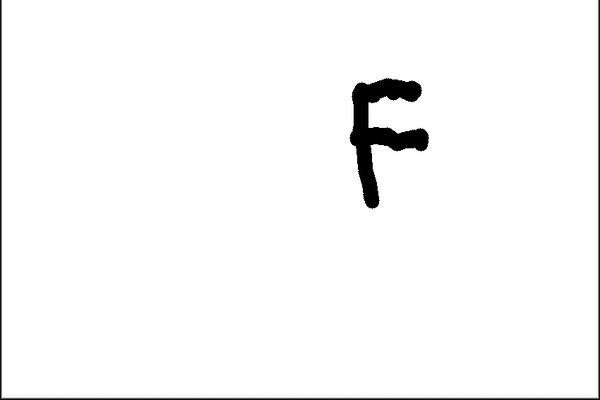F: (344, 73, 432, 211)
